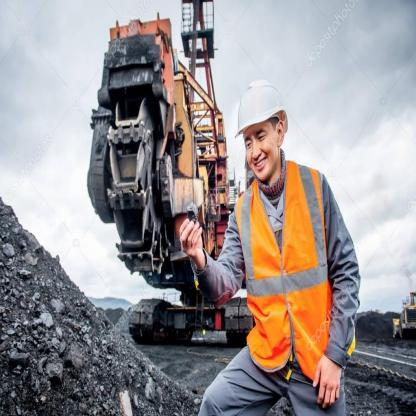person: (176, 74, 360, 415)
